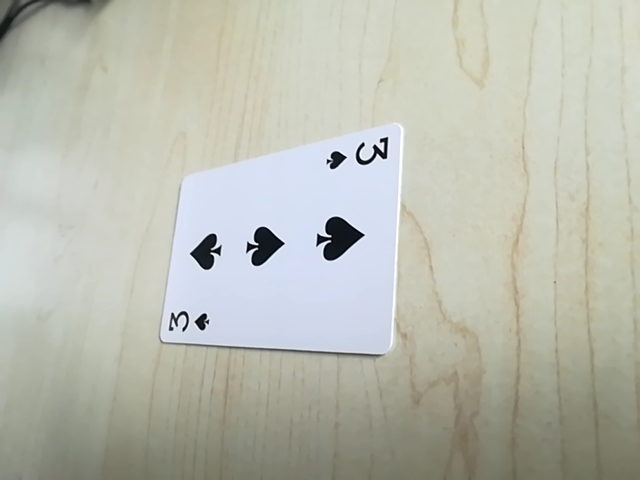ht 3: (322, 134, 395, 175), (160, 305, 217, 340)
